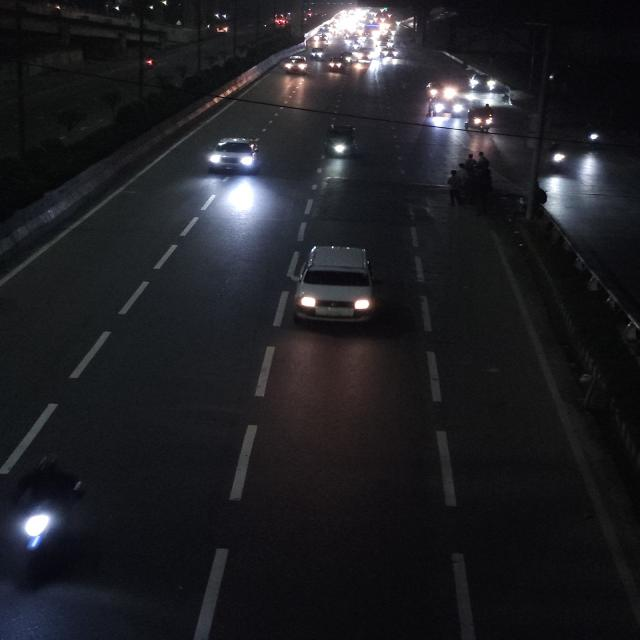bus: (354, 47, 374, 64)
car: (286, 243, 382, 331), (203, 135, 266, 177), (466, 70, 498, 93), (282, 56, 309, 76), (384, 47, 398, 60)
cng: (321, 122, 360, 161), (466, 104, 496, 132), (449, 96, 470, 118), (327, 54, 346, 74), (309, 47, 324, 61)
motorcycle: (545, 142, 570, 174), (139, 54, 158, 70)
pedestrian: (442, 166, 469, 208)
